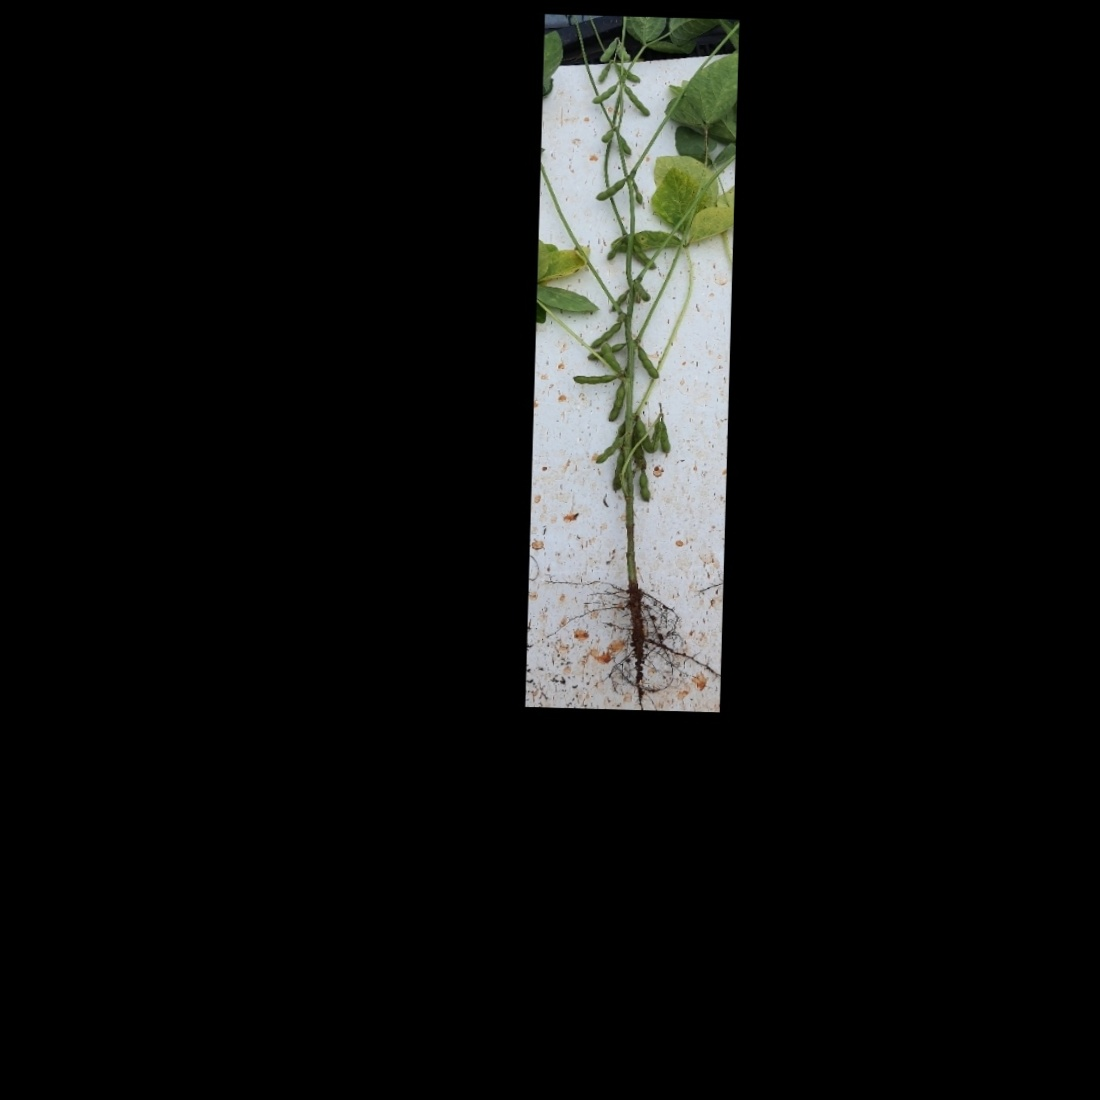pod: (621, 84, 653, 117), (634, 342, 662, 380), (587, 319, 622, 349), (593, 176, 629, 203), (593, 436, 625, 466), (631, 416, 654, 455), (605, 383, 627, 424), (600, 343, 627, 377), (570, 371, 620, 387), (629, 243, 658, 270), (656, 420, 674, 456), (590, 83, 618, 106), (627, 428, 645, 459), (611, 451, 625, 493), (637, 469, 653, 502), (608, 288, 628, 314), (597, 37, 616, 63), (614, 65, 643, 83), (650, 418, 663, 453), (629, 180, 645, 207), (606, 238, 624, 262), (616, 134, 633, 157), (596, 63, 612, 83), (599, 127, 614, 143)
soy: (533, 25, 720, 676)
